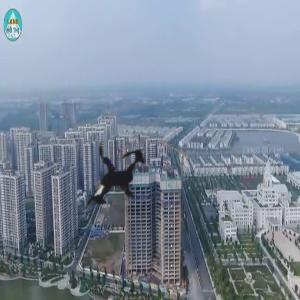drone: (42, 108, 183, 249)
